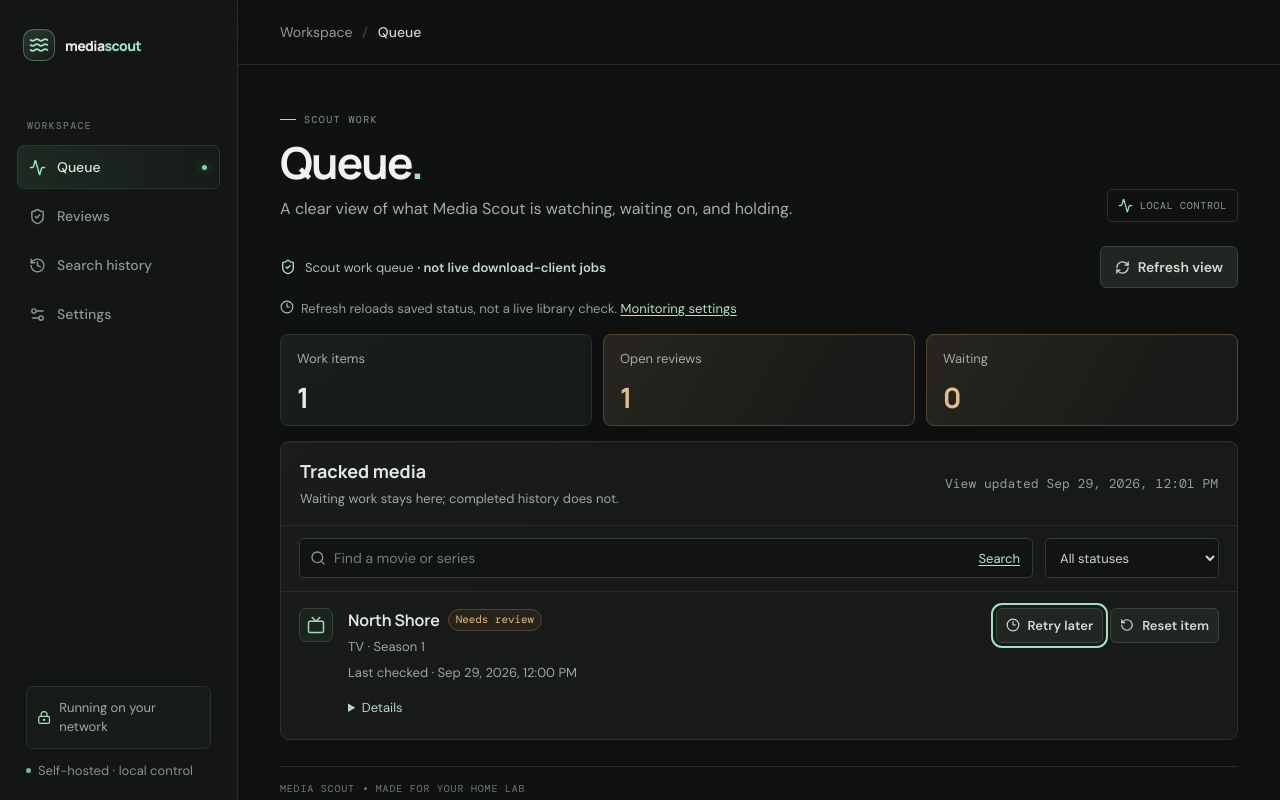
Test case: operations dashboard › closes action confirmation from the keyboard and restores focus to its opener
Expected: the heading "North Shore" is shown, [348,608,440,632]
Click the button "Retry later": (1049, 626) [996,608,1103,643]
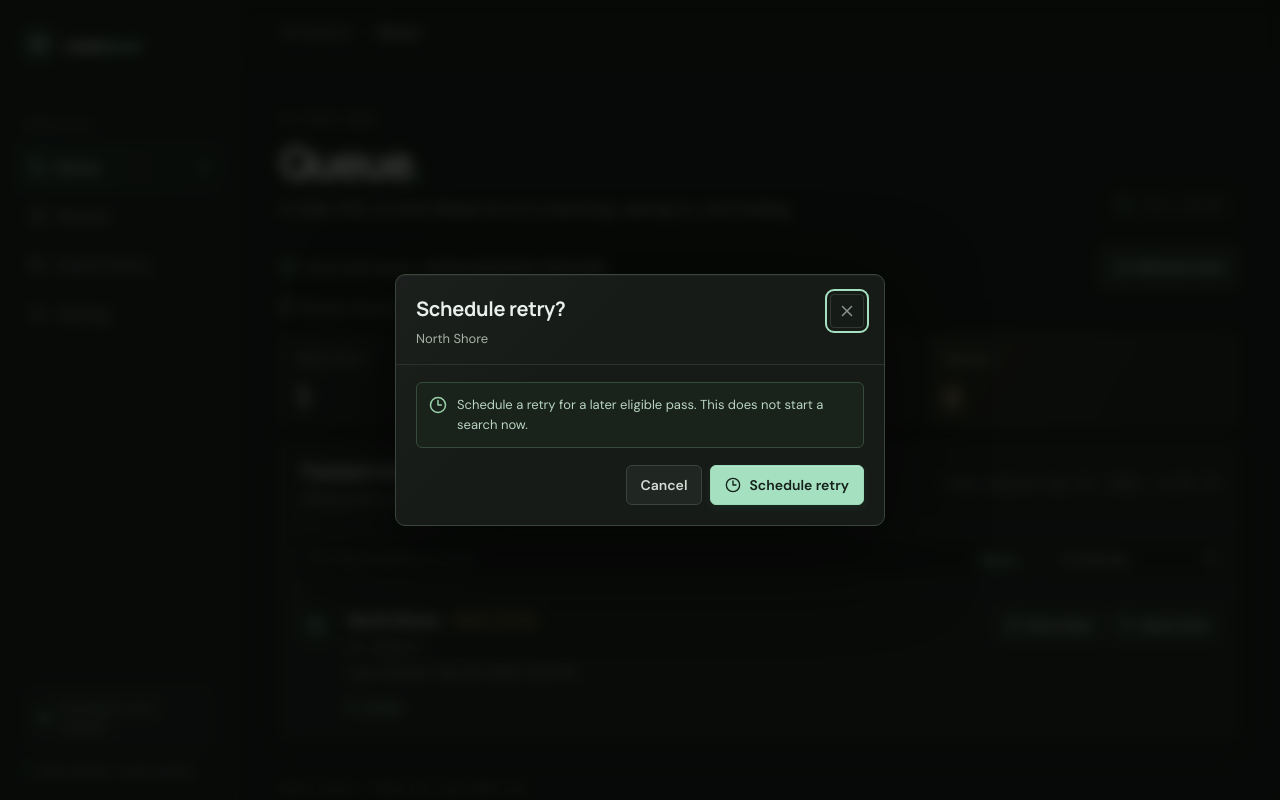
Result: the dialog "Schedule retry?" is shown at [395,274,885,526]
Press Escape
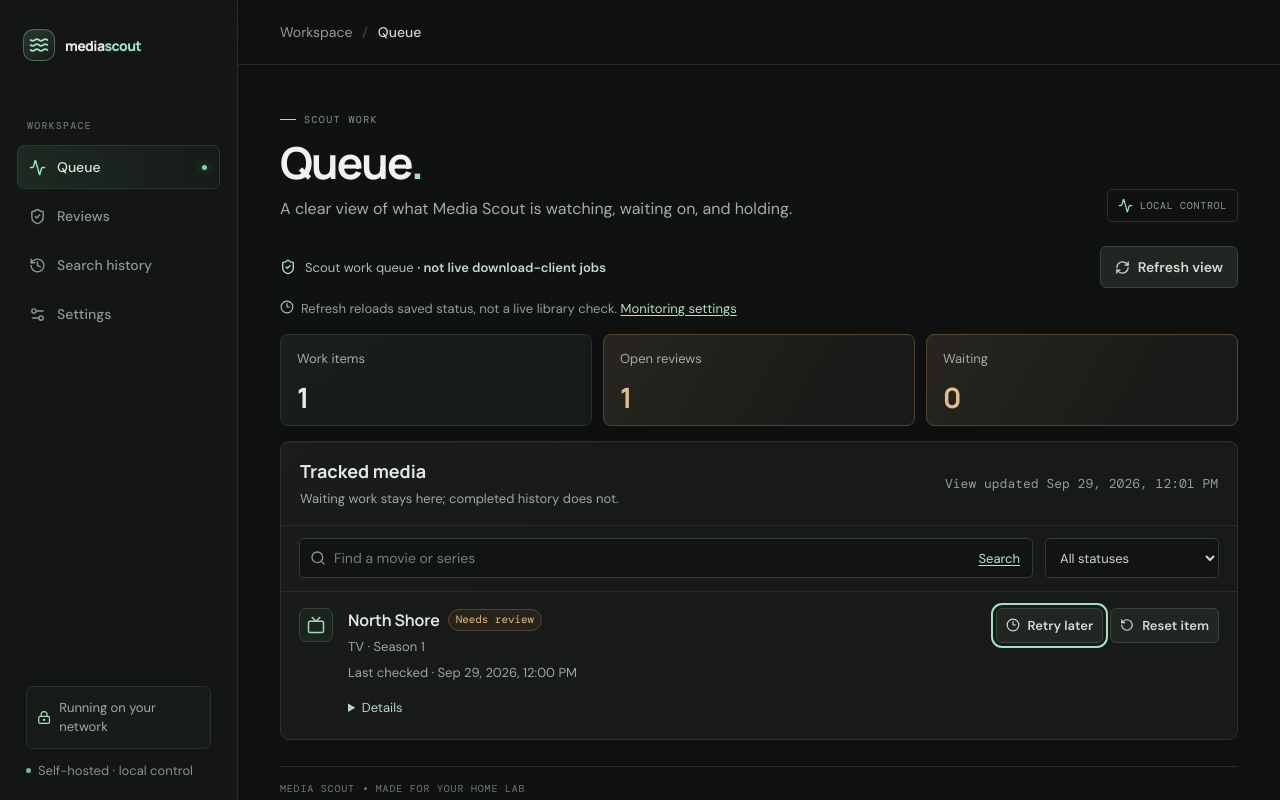
Result: the dialog is gone
